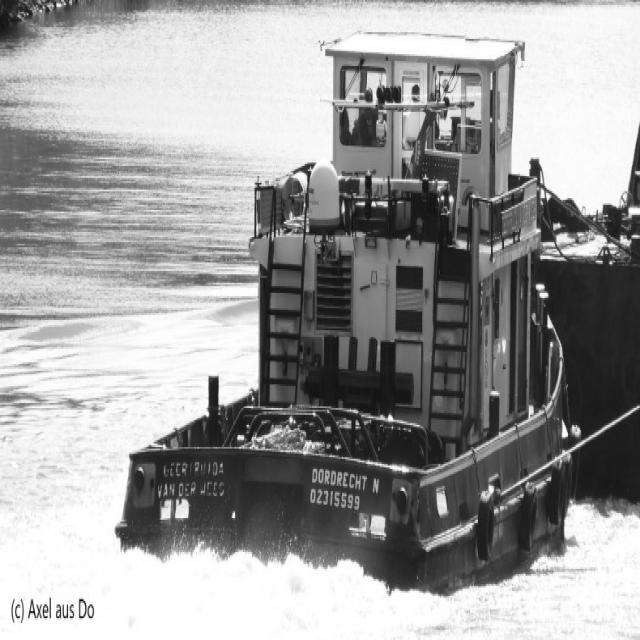tugboat: (114, 27, 581, 606)
